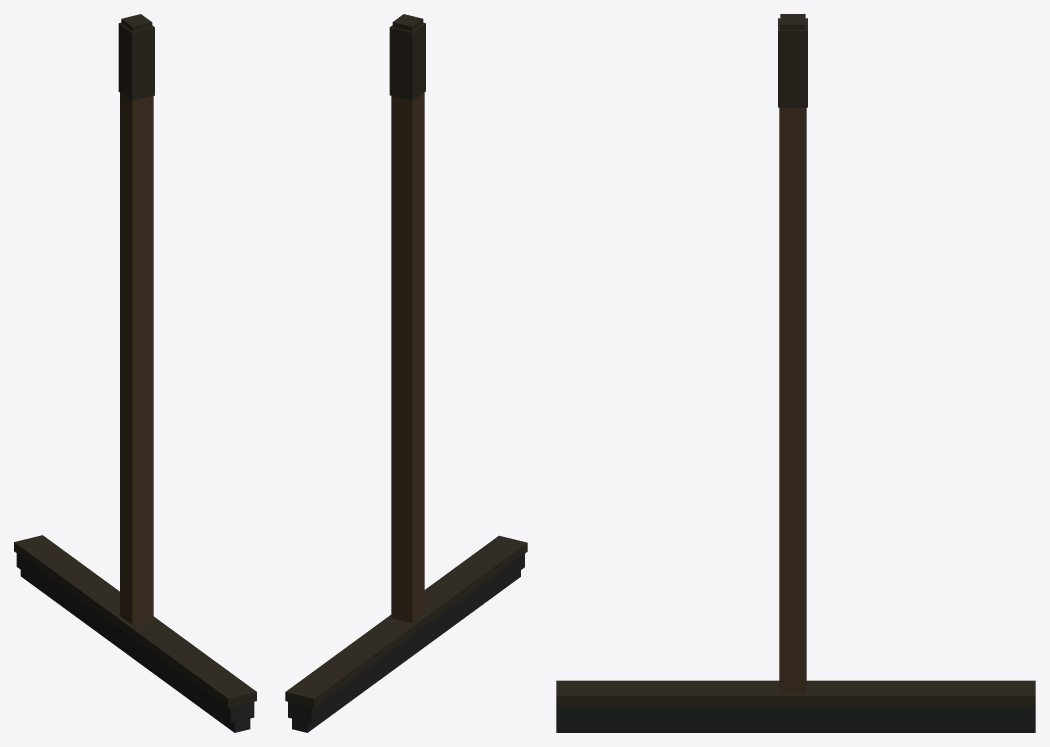
The model's file is broomLarge.fbx.
The picture shows the model from 3 angles, left to right: view 1: azimuth 30°, elevation 25°; view 2: azimuth 150°, elevation 25°; view 3: azimuth 270°, elevation 25°; orthographic projection. The views are drawn at different scales.
Parts seen in each view (by area): view 1: largeBroom; view 2: largeBroom; view 3: largeBroom.
Part boxes in pixels (x1,y1,x2,y2): largeBroom: (14, 14, 256, 732); largeBroom: (285, 14, 527, 732); largeBroom: (556, 14, 1035, 732).
Bounding box in the file's own units: 17.29 × 365 × 224.
